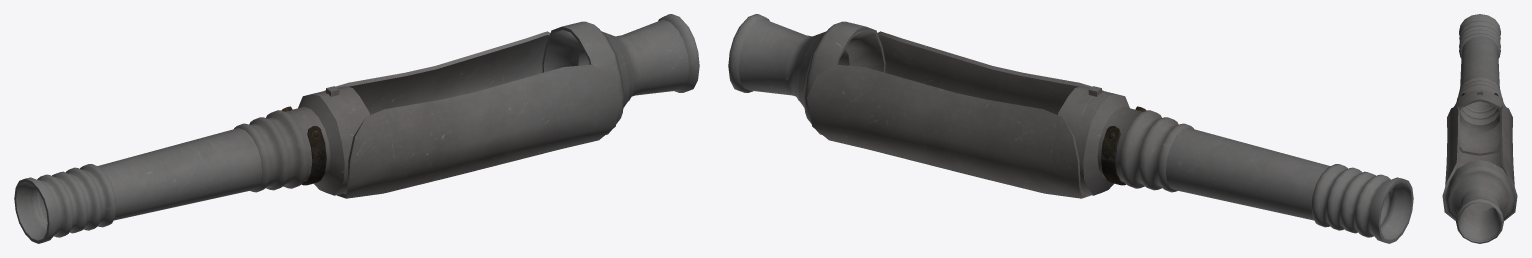
File: SM_Bullanggi.fbx
3 views of the same model, side by side, from view 1: azimuth 30°, elevation 25°; view 2: azimuth 150°, elevation 25°; view 3: azimuth 270°, elevation 25° (orthographic). The views are drawn at different scales.
Parts seen in each view (by area): view 1: SM_Bullanggi; view 2: SM_Bullanggi; view 3: SM_Bullanggi.
Part boxes in pixels (x1=…): SM_Bullanggi: x1=14, y1=14, x2=699, y2=243; SM_Bullanggi: x1=728, y1=14, x2=1413, y2=243; SM_Bullanggi: x1=1442, y1=14, x2=1517, y2=243.
Bounding box in the file's own units: 116 × 19.3 × 18.37.
Materials: 1 (1 with a texture image).
